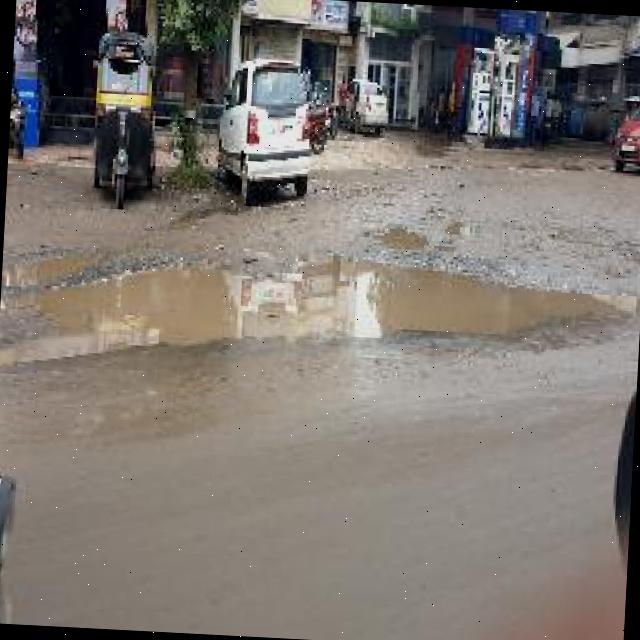stagnation: (46, 222, 640, 367)
